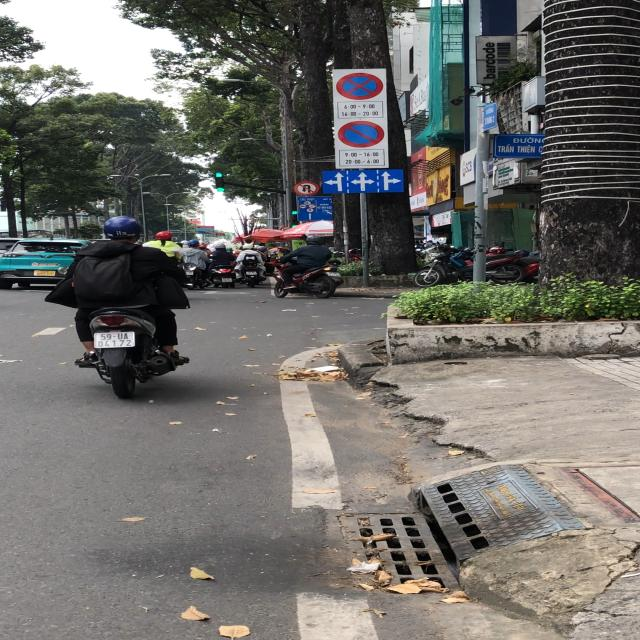Bien bao cam do xe: (335, 120, 388, 150)
Bien bao cam dung xe va do xe: (335, 71, 386, 104)
Bien bao cam quay dau xe: (293, 179, 321, 197)
